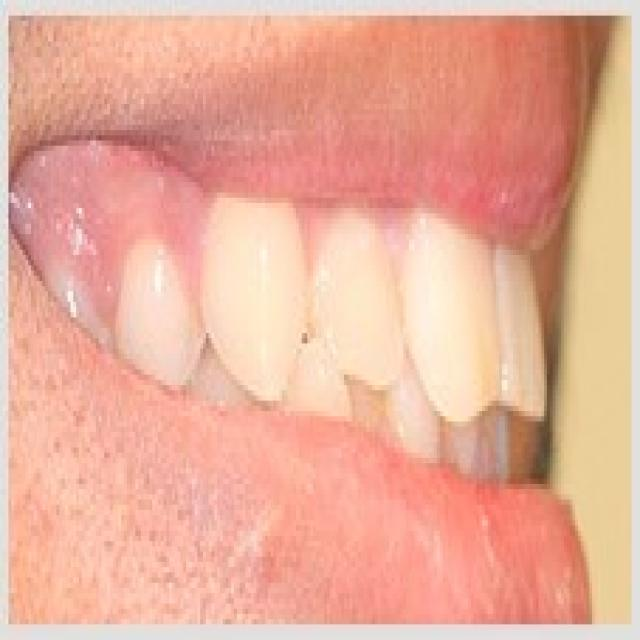tooth: (397, 187, 502, 437), (189, 188, 310, 396), (318, 208, 398, 406), (113, 239, 206, 385)
